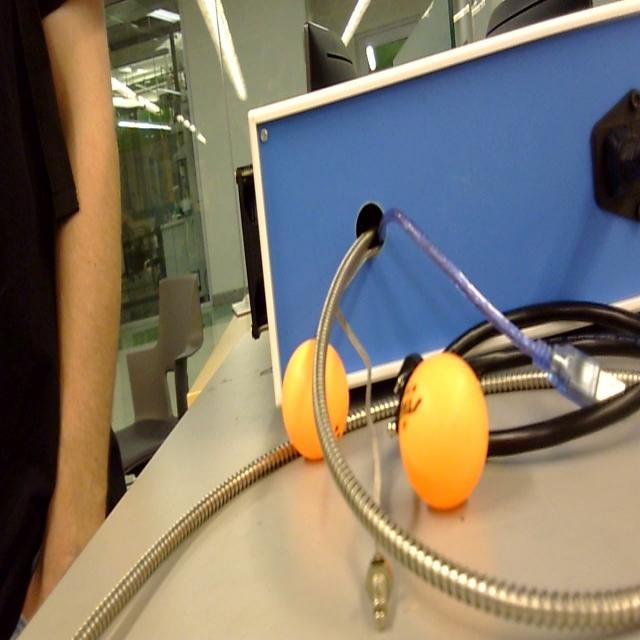ball: (398, 351, 490, 514), (282, 338, 350, 464)
